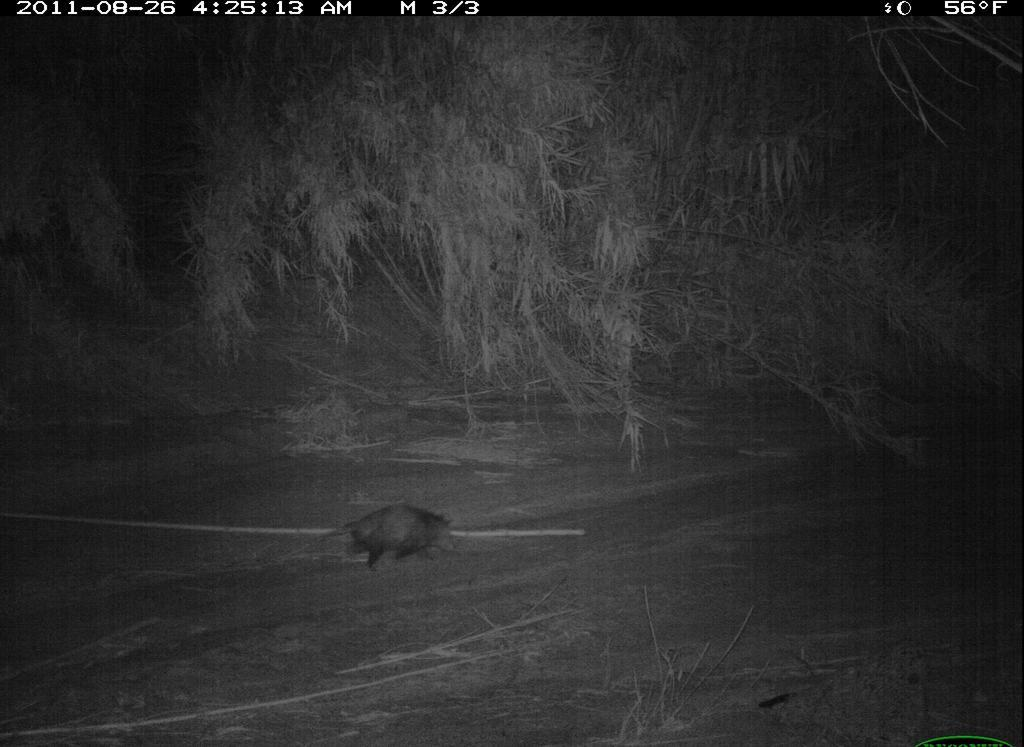opossum: (292, 501, 479, 584)
